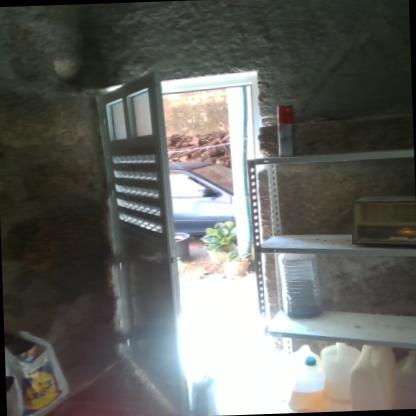semi: (85, 57, 284, 416)
